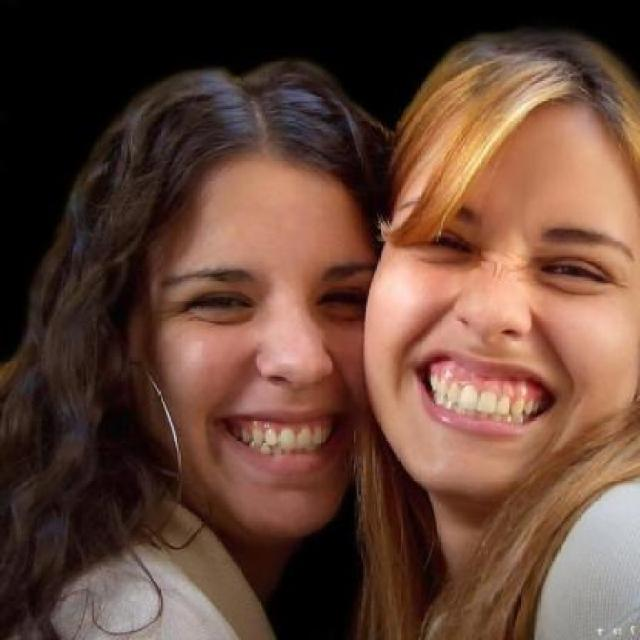drowsy: (545, 253, 606, 296), (188, 289, 249, 317), (430, 228, 468, 261), (318, 288, 362, 310)
